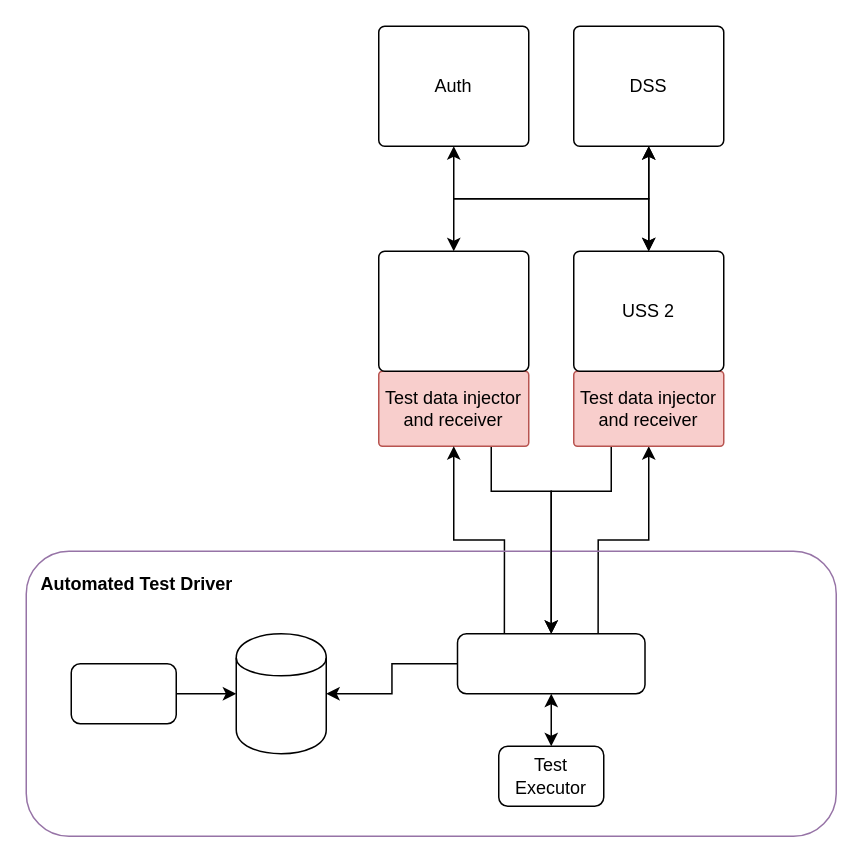
The diagram is 863 pixels wide and 863 high, and some of its shapes have lost their labels. The box of each missing label's shape, as (x1, y1, x2, y2) in pixels:
Scenario Player and Evaluator: (456, 632, 645, 694)
Scenarios: (235, 632, 326, 754)
Simulator: (70, 662, 176, 724)
USS 1: (377, 250, 529, 371)
